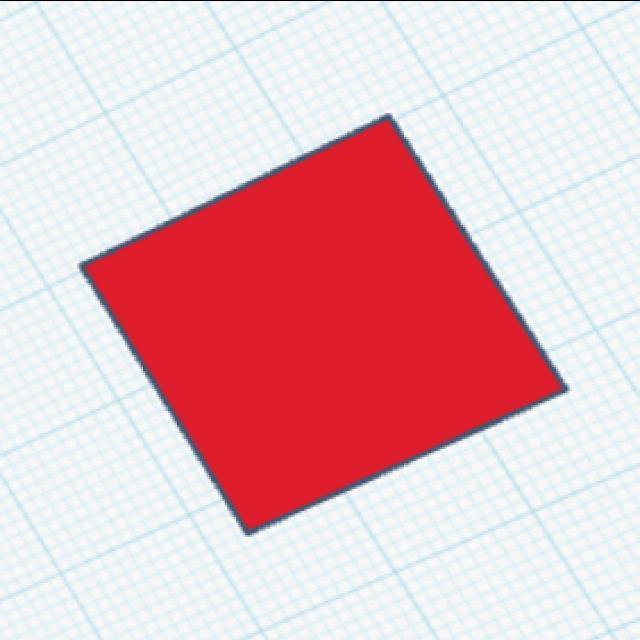cube: (74, 108, 572, 539)
